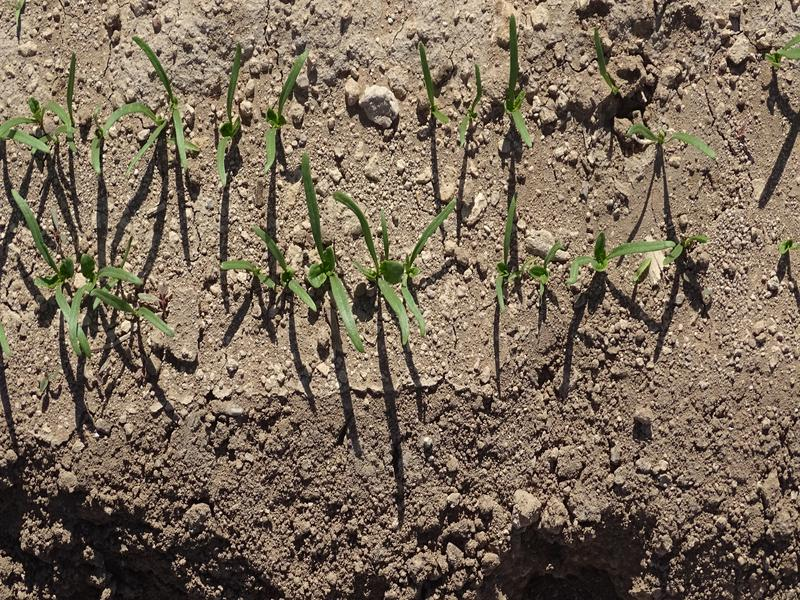Espinaca: (220, 197, 461, 343), (9, 196, 170, 353), (5, 35, 186, 169), (414, 30, 534, 151), (529, 224, 663, 301), (253, 50, 311, 168), (620, 119, 727, 167), (214, 42, 247, 187), (492, 194, 510, 309)
